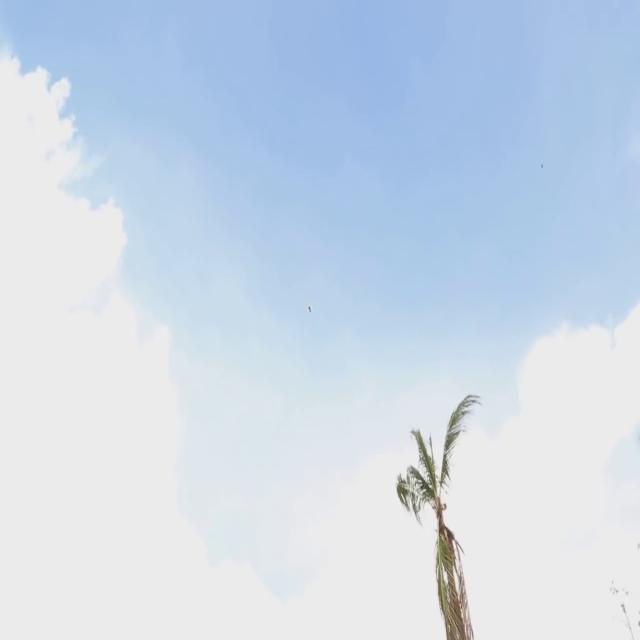drone: (306, 302, 318, 318)
